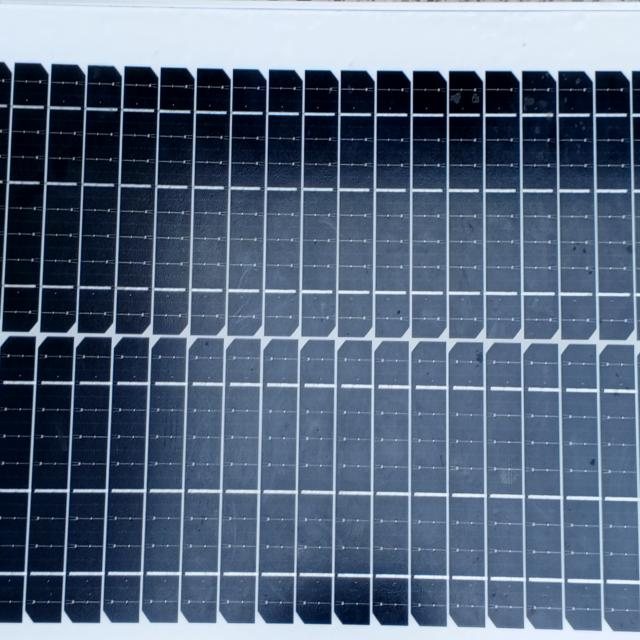Clean: (7, 26, 635, 630)
